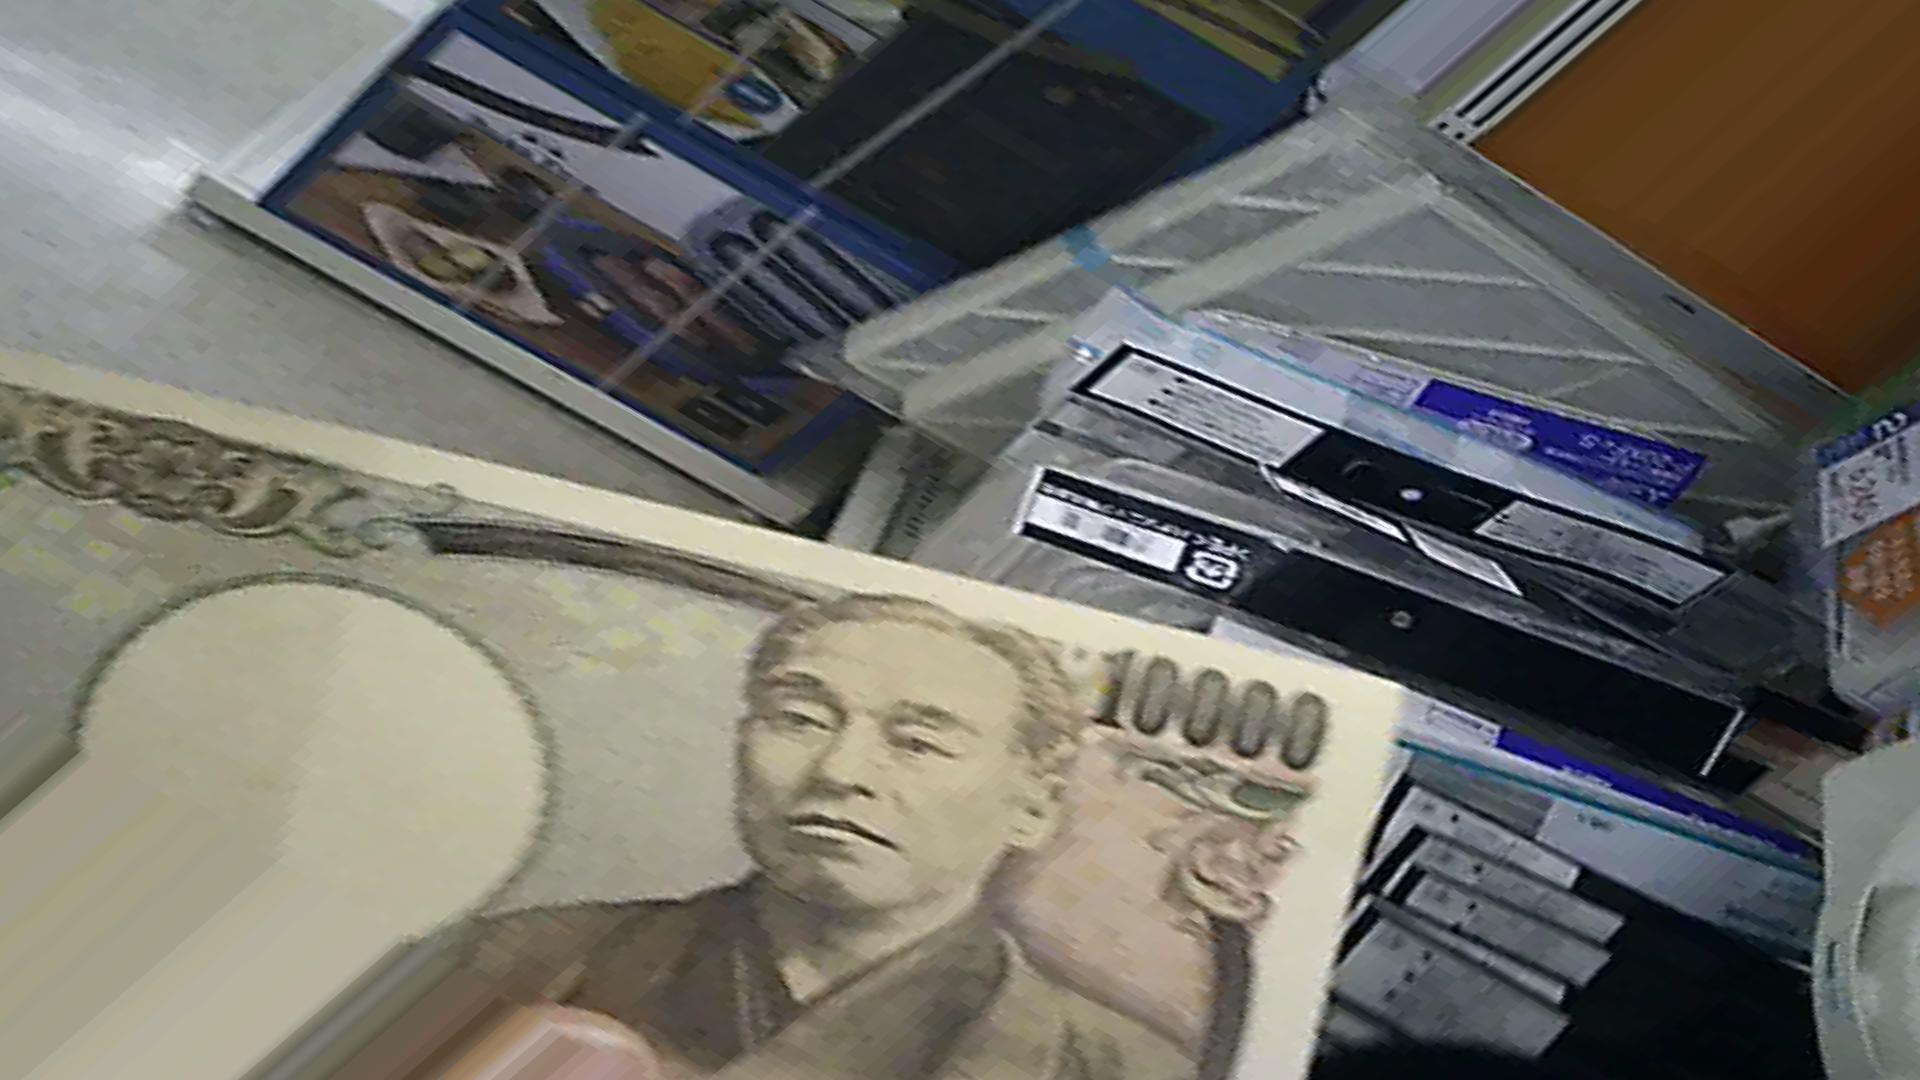10,000 Yen: (22, 351, 1410, 1065)
